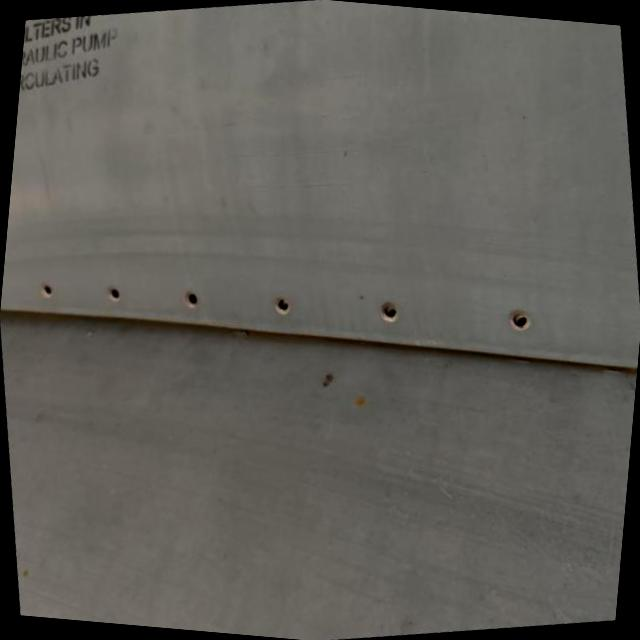Missing Fastener: (506, 304, 534, 334), (378, 298, 400, 322), (274, 296, 294, 316), (184, 288, 204, 308), (109, 286, 124, 300), (42, 282, 55, 296)
